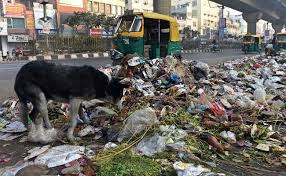garbage: (127, 58, 286, 146), (89, 112, 286, 148)
